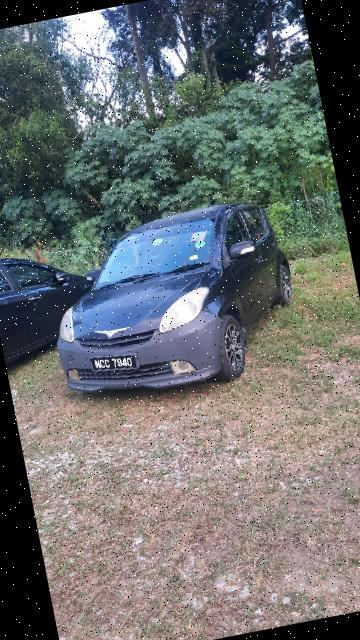License_Plate: (89, 346, 144, 380)
car: (32, 191, 312, 416)
